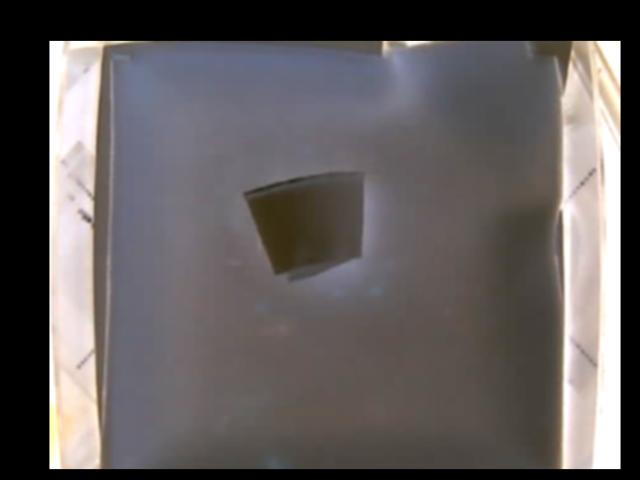Cup: (242, 167, 362, 280)
